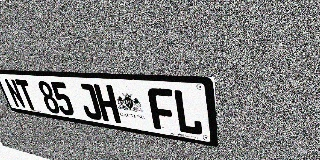5: (50, 81, 76, 116)
8: (36, 81, 61, 114)
F: (147, 88, 177, 132)
H: (93, 84, 121, 123)
J: (76, 83, 103, 121)
L: (172, 89, 203, 136)
N: (3, 78, 27, 109)
T: (14, 79, 39, 111)
